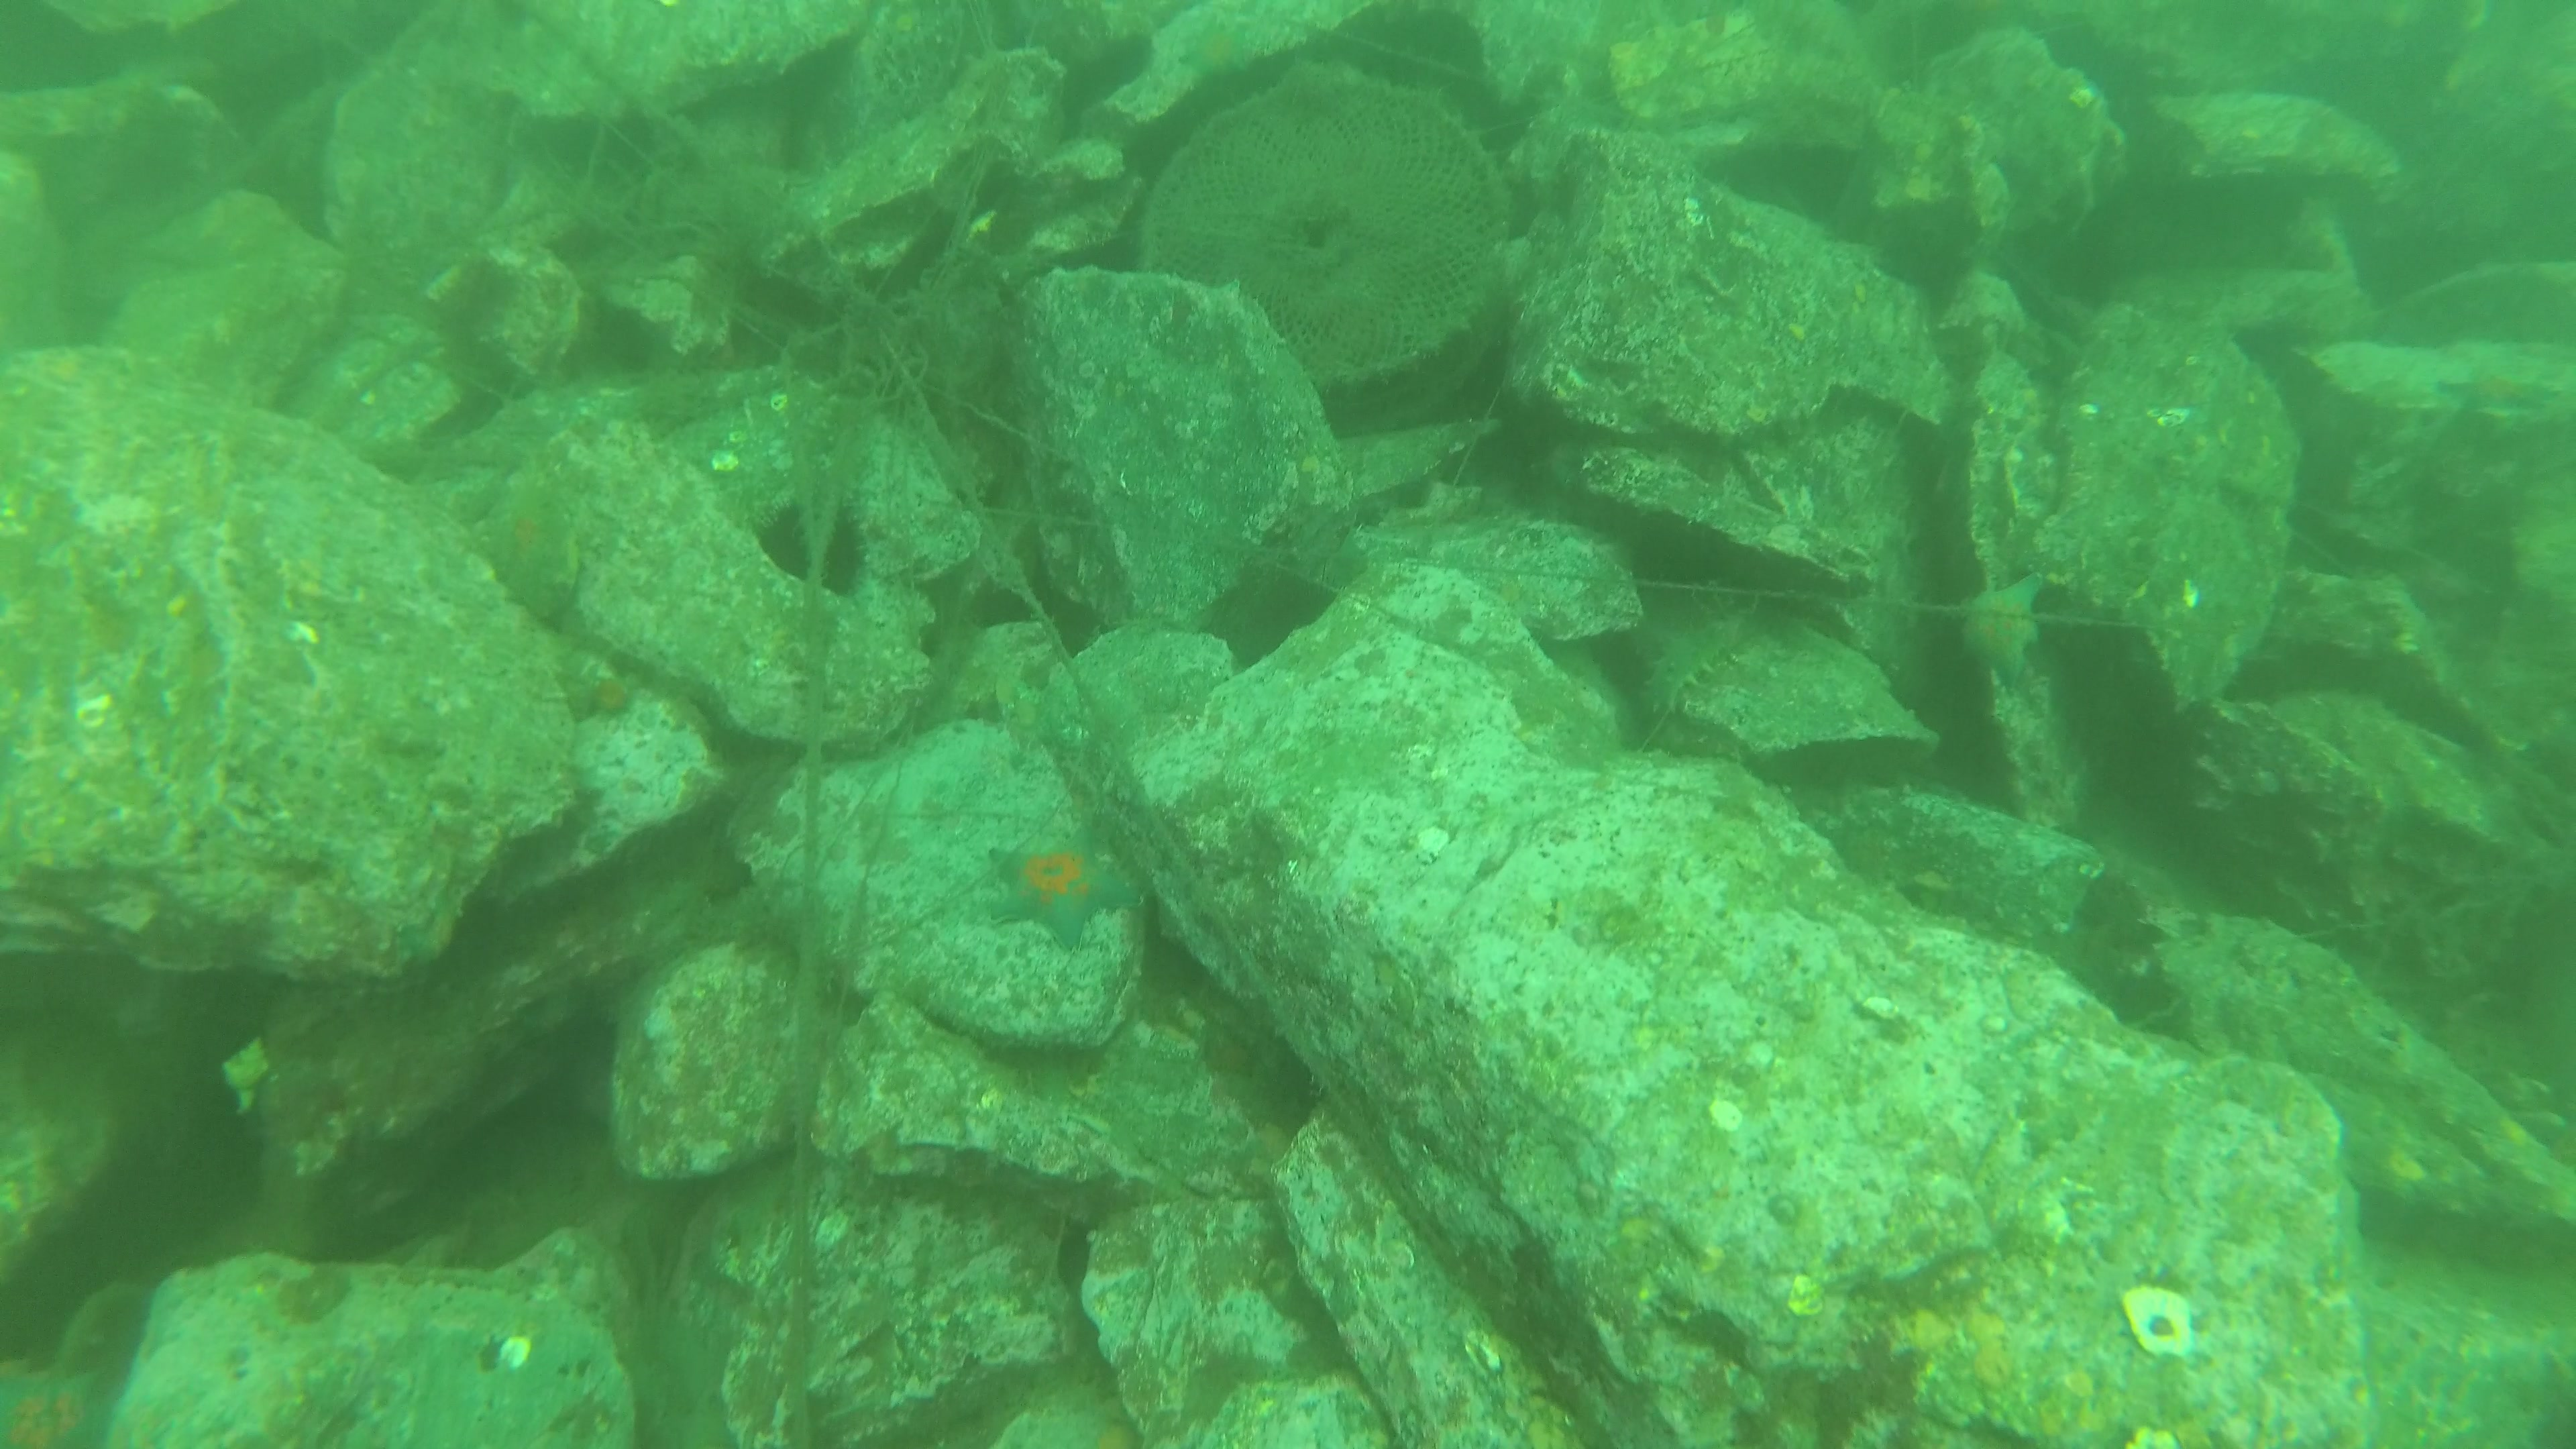holothurian: (1644, 621, 1741, 713)
starfish: (987, 828, 1143, 955), (1960, 573, 2043, 688), (0, 1369, 108, 1449), (1177, 27, 1253, 81)
